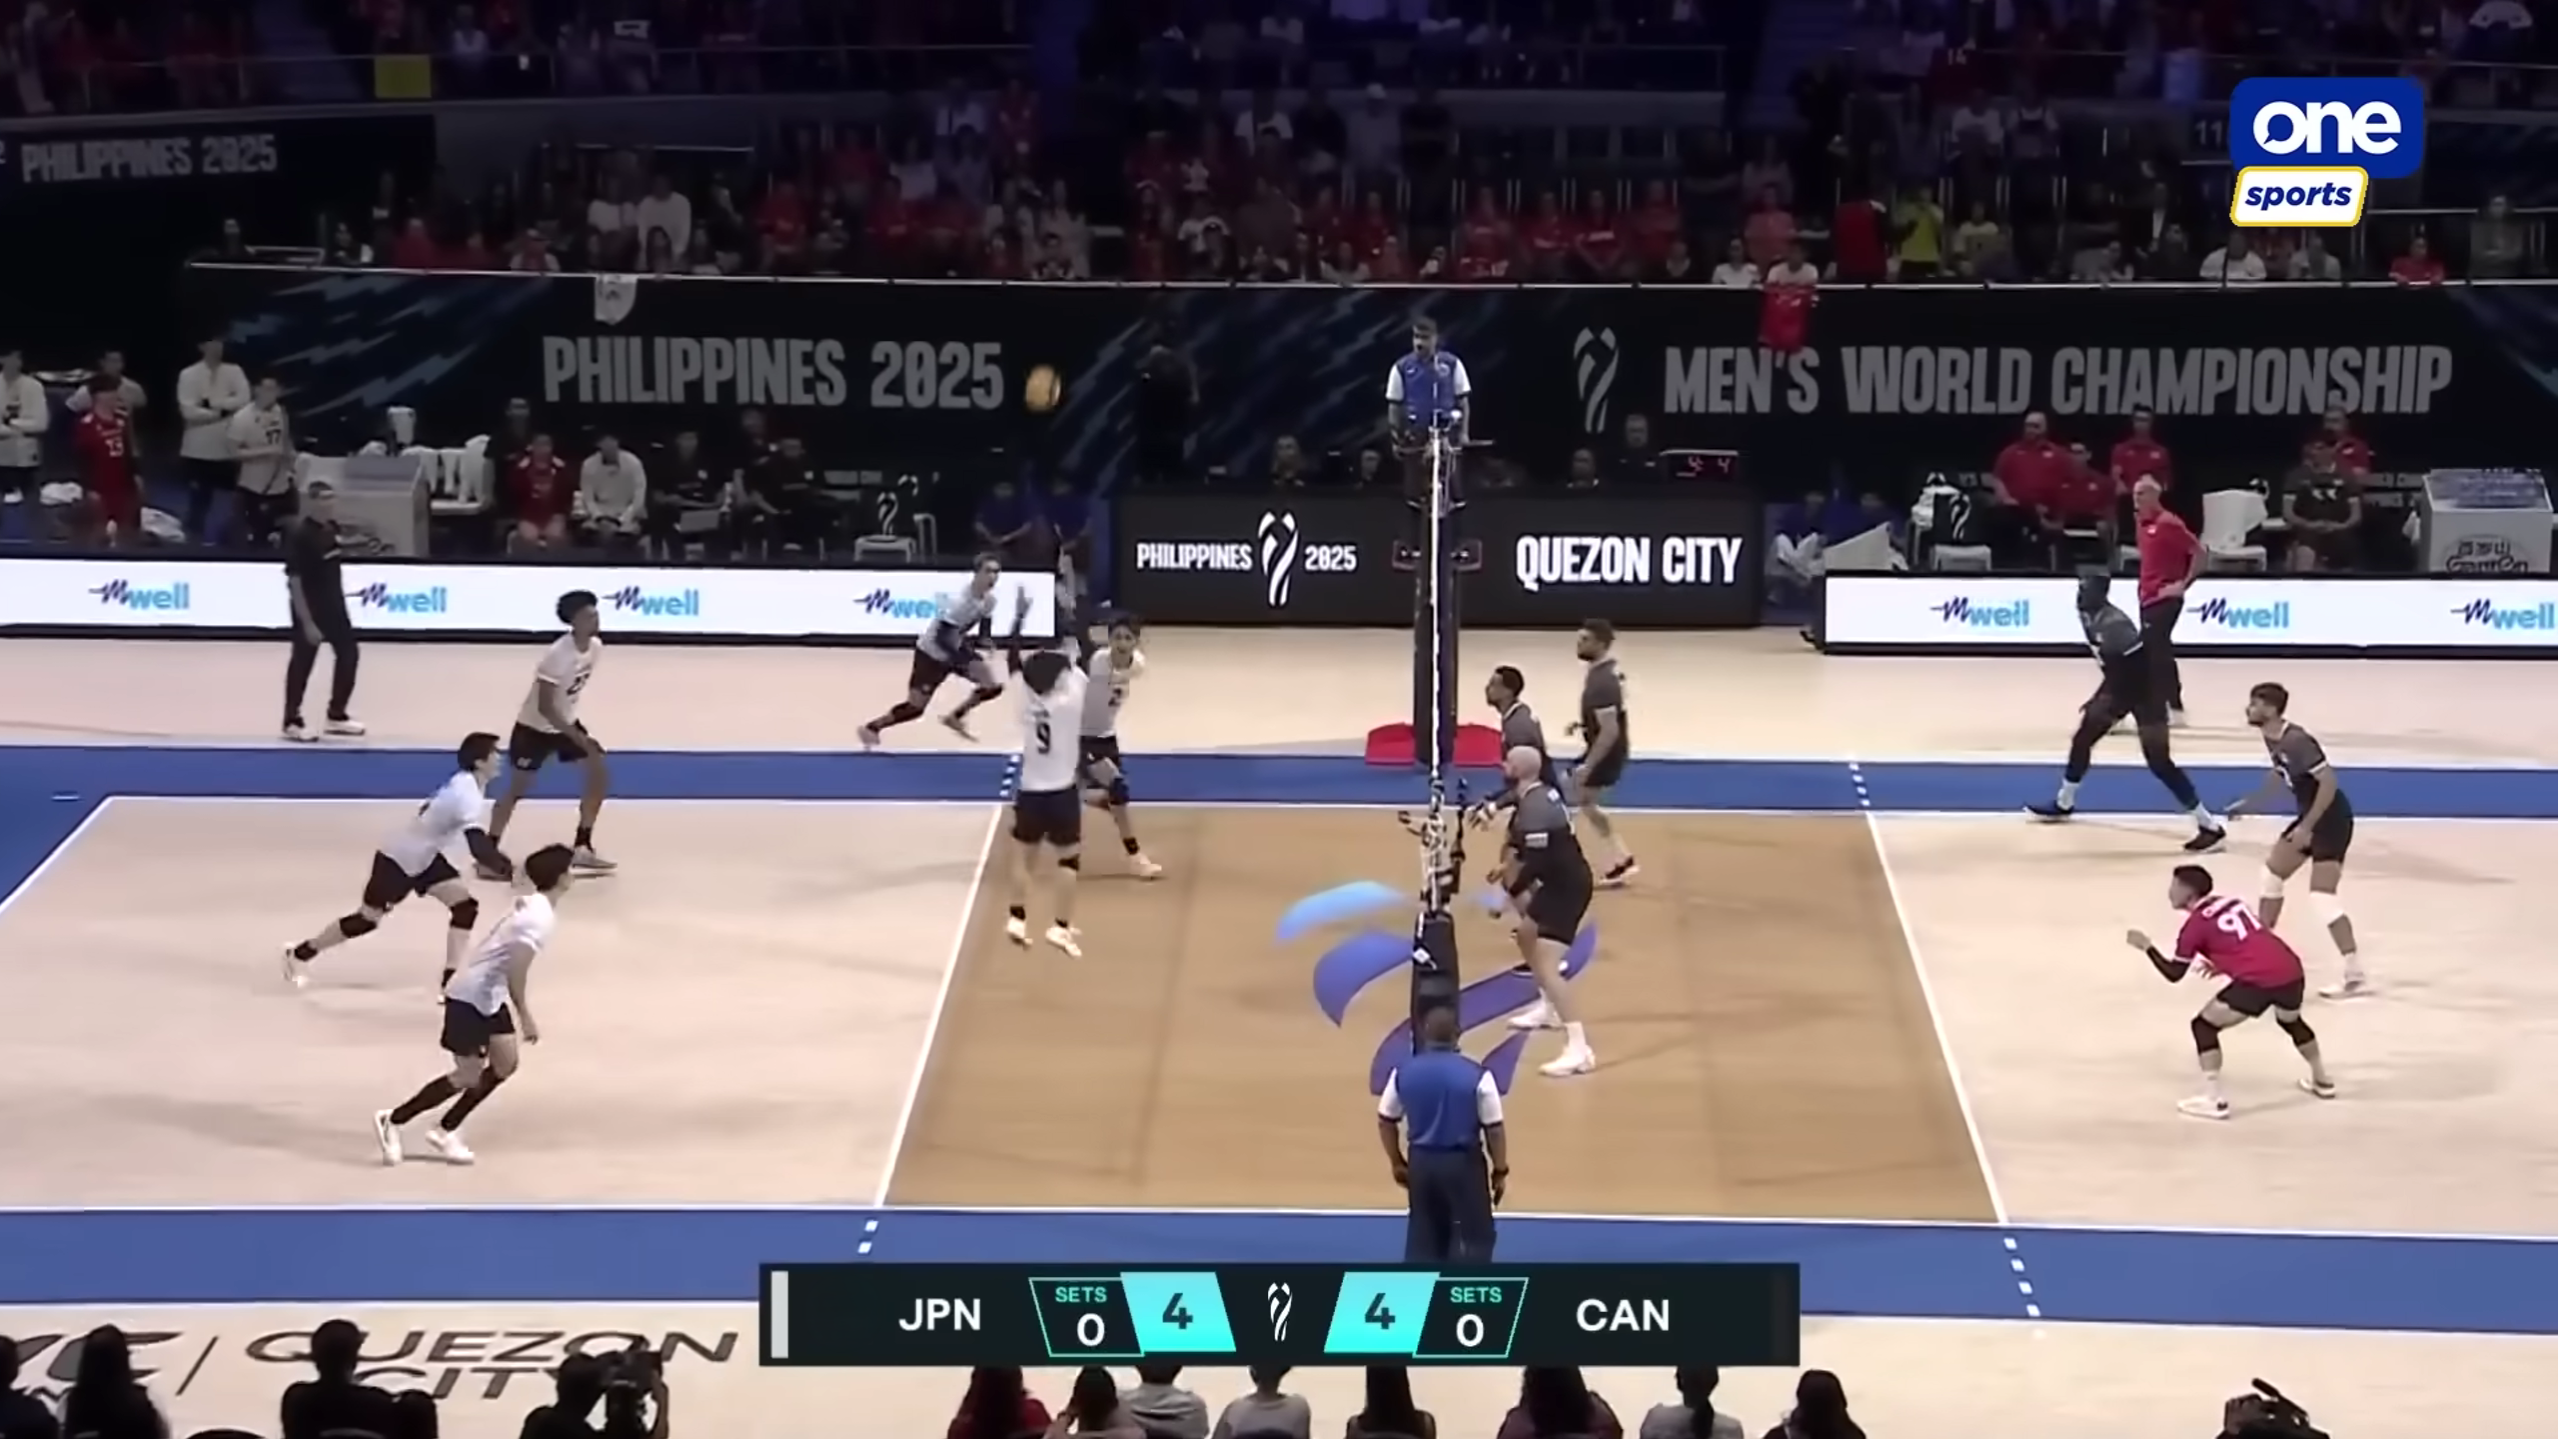Ball: (1019, 362, 1065, 413)
